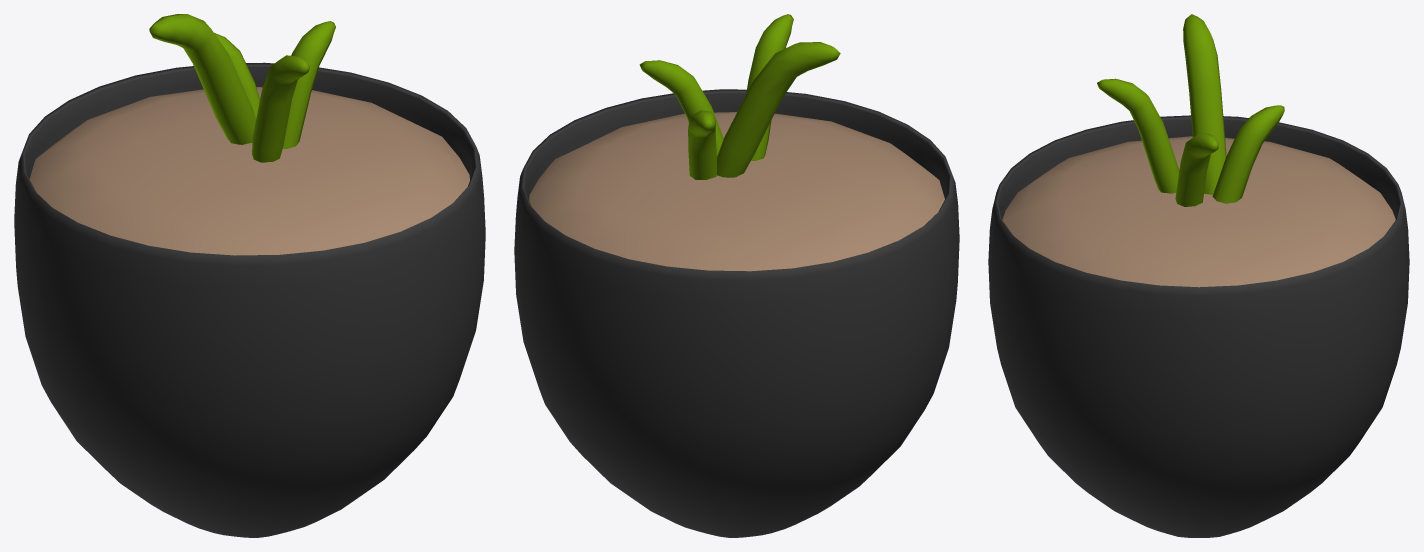
The model's file is PlantBase.fbx.
3 renders of one model, left to right at view 1: azimuth 30°, elevation 25°; view 2: azimuth 150°, elevation 25°; view 3: azimuth 270°, elevation 25°, orthographic. The views are drawn at different scales.
Visible parts, largest first — view 1: pCylinder1, pCube1, pCube3, pCube2, pCube7, pCube4; view 2: pCylinder1, pCube1, pCube3, pCube7, pCube4, pCube2; view 3: pCylinder1, pCube1, pCube3, pCube2, pCube4, pCube7.
Boxes of the visible parts, left/top/right/bottom form: pCylinder1: left=14, top=62, right=485, bottom=537; pCube1: left=29, top=87, right=469, bottom=255; pCube3: left=149, top=14, right=255, bottom=144; pCube2: left=252, top=55, right=309, bottom=162; pCube7: left=283, top=21, right=335, bottom=149; pCube4: left=214, top=33, right=259, bottom=119; pCylinder1: left=514, top=89, right=959, bottom=537; pCube1: left=529, top=112, right=944, bottom=271; pCube3: left=717, top=42, right=840, bottom=177; pCube7: left=639, top=60, right=723, bottom=156; pCube4: left=688, top=110, right=716, bottom=179; pCube2: left=746, top=14, right=793, bottom=160; pCylinder1: left=988, top=115, right=1409, bottom=537; pCube1: left=1002, top=136, right=1395, bottom=287; pCube3: left=1183, top=14, right=1226, bottom=194; pCube2: left=1097, top=78, right=1179, bottom=193; pCube4: left=1212, top=105, right=1284, bottom=203; pCube7: left=1175, top=133, right=1218, bottom=206.
Size of the model in its own units: 1.81 by 2.22 by 1.81.
